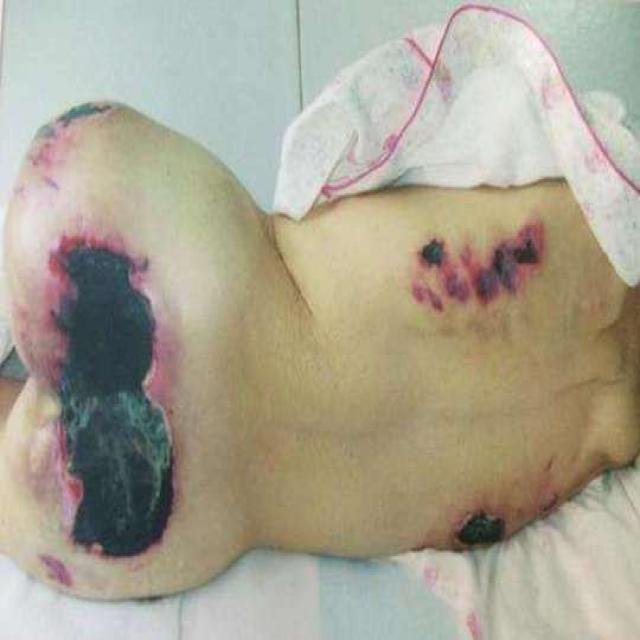Unstageable: (50, 239, 171, 556), (422, 222, 541, 307), (458, 513, 504, 544)
